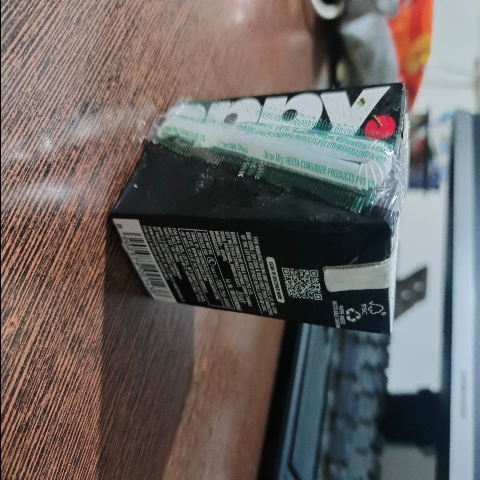appy: (120, 78, 414, 358)
